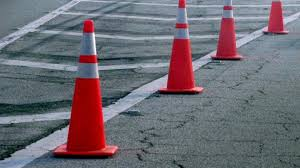cones: (56, 17, 118, 158), (150, 1, 205, 98), (212, 1, 239, 62)
